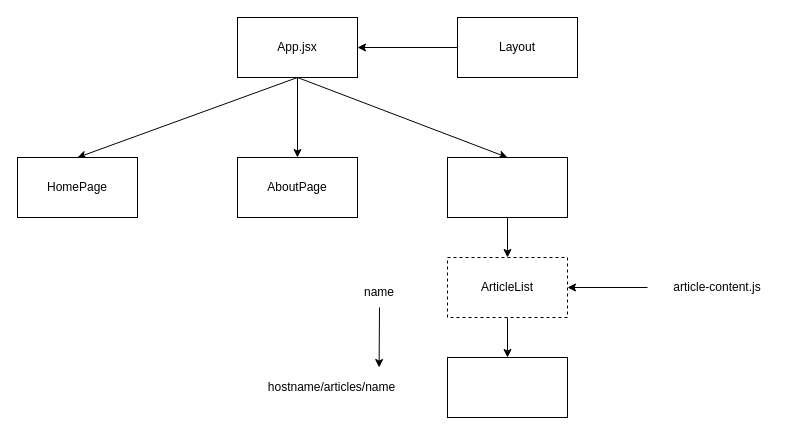
Some shapes in this 805 by 435 pixel diagram are drawn without their labels. The centre of each missing label's shape, as x and y in pixels:
ArticleListPage: the point at 507,187
ArticlePage: the point at 507,387
